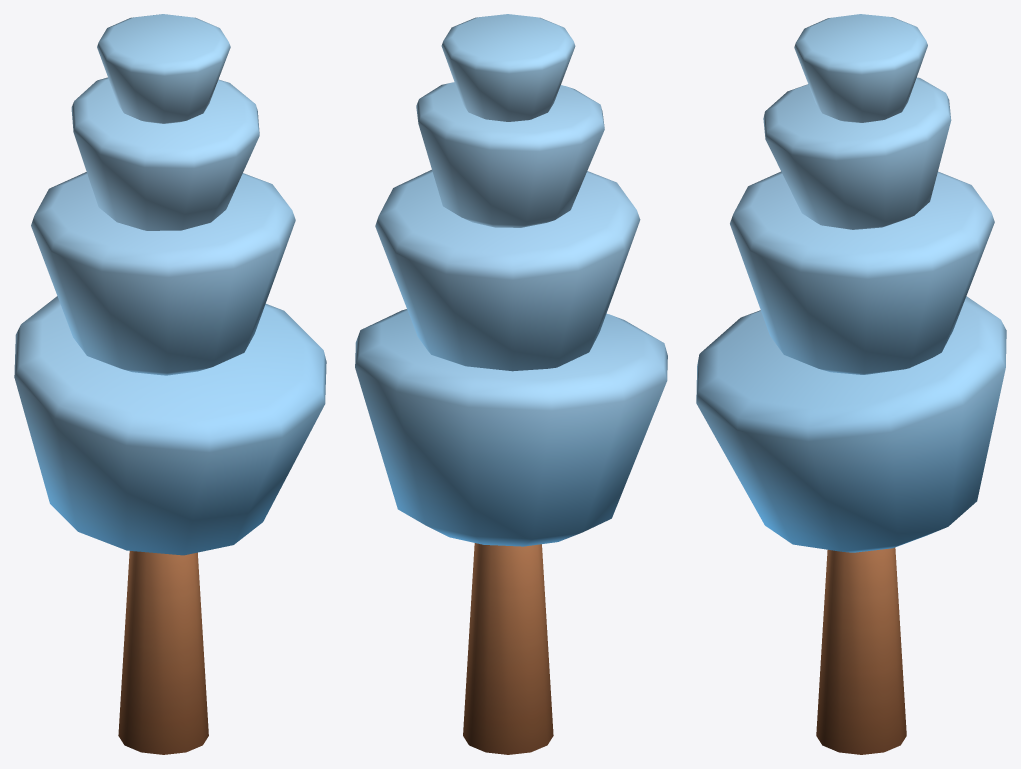
File: lpb_tree_5_d.fbx
3 renders of one model, left to right at view 1: azimuth 30°, elevation 25°; view 2: azimuth 150°, elevation 25°; view 3: azimuth 270°, elevation 25°, orthographic.
Parts seen in each view (by area): view 1: ap_tree_5.003; view 2: ap_tree_5.003; view 3: ap_tree_5.003.
Part boxes in pixels (left/top/right/bottom): ap_tree_5.003: left=14, top=14, right=326, bottom=754; ap_tree_5.003: left=355, top=14, right=667, bottom=754; ap_tree_5.003: left=696, top=14, right=1006, bottom=754.
Bounding box in the file's own units: 222 × 546 × 220.
